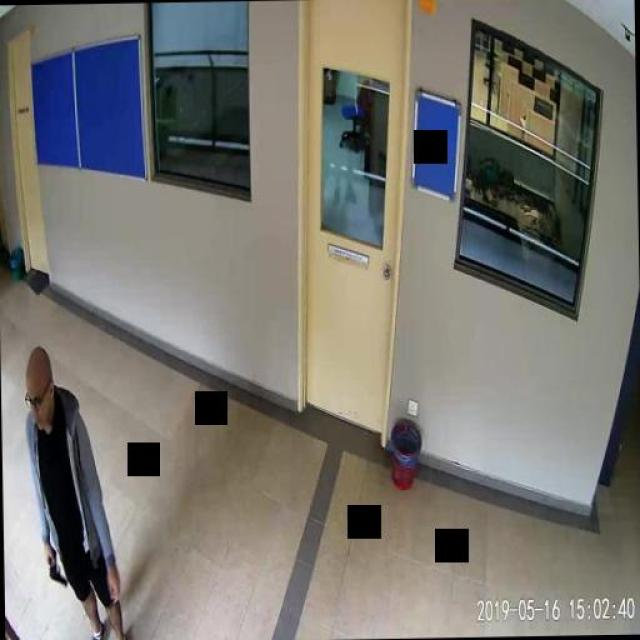gun: (45, 546, 66, 584)
